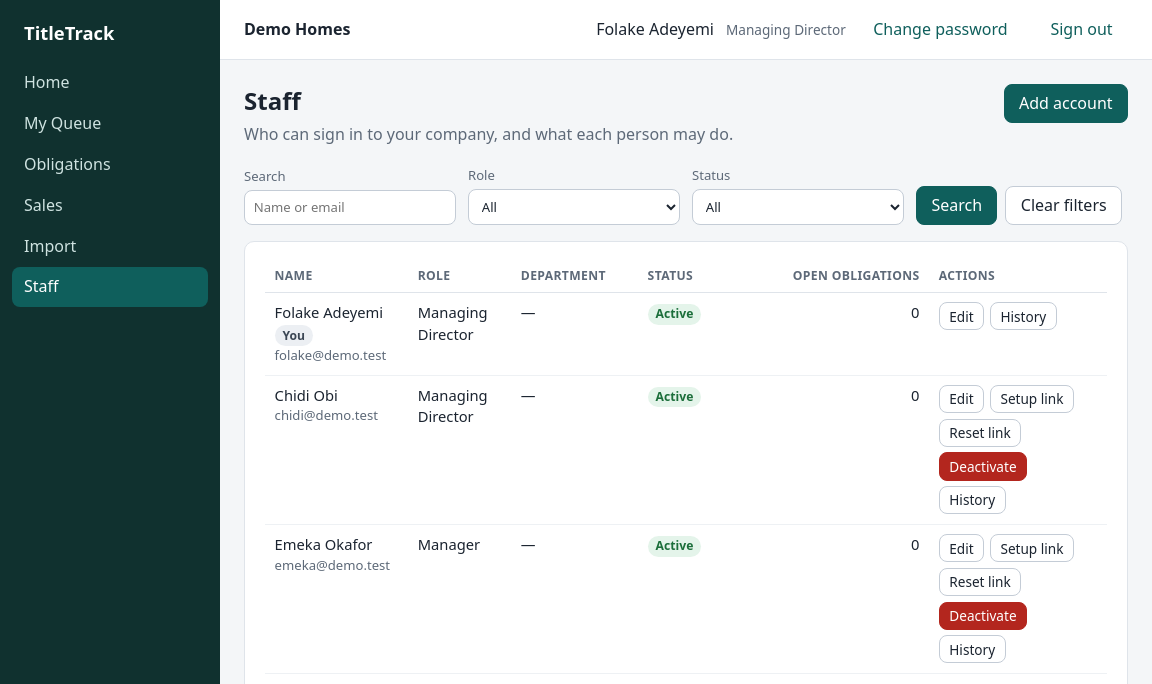
staff list › searches, filters and clears
This screenshot has width=1152, height=684.
Expected: the heading "Staff" is shown, [244,84,301,117]
Type "Bello" into the search field at (350, 208), box [244,190,456,225]
Then press Enter
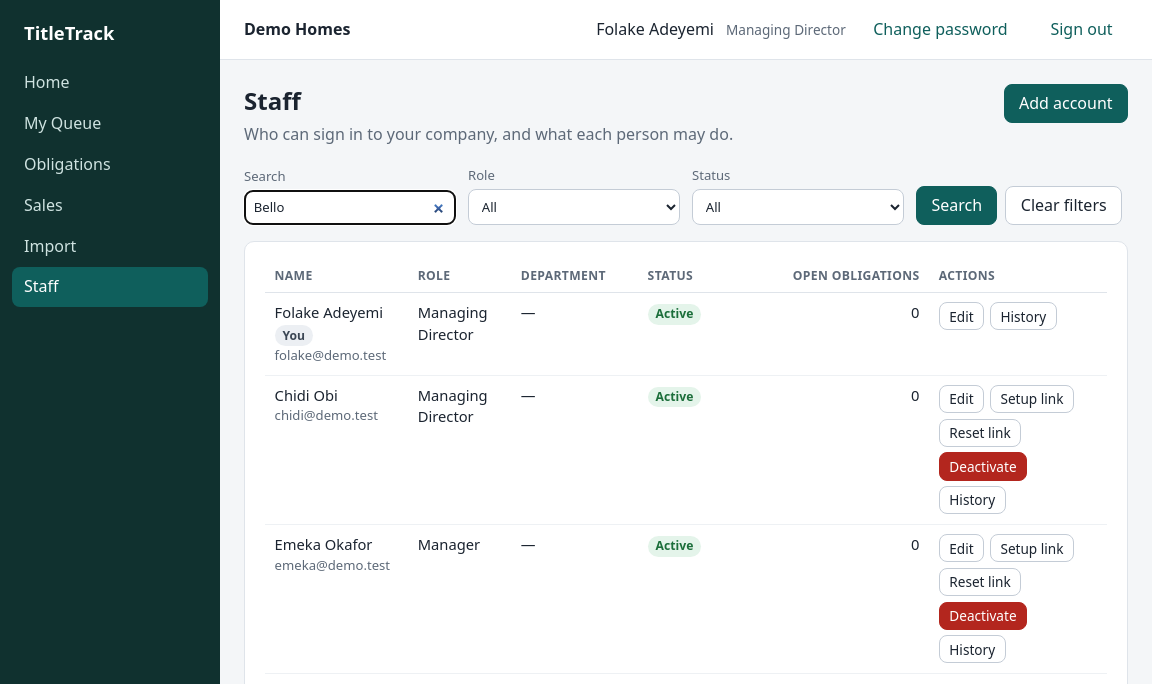
Select "Staff" in the dropdown labelled "Role" at (574, 207), box [468,189,680,225]
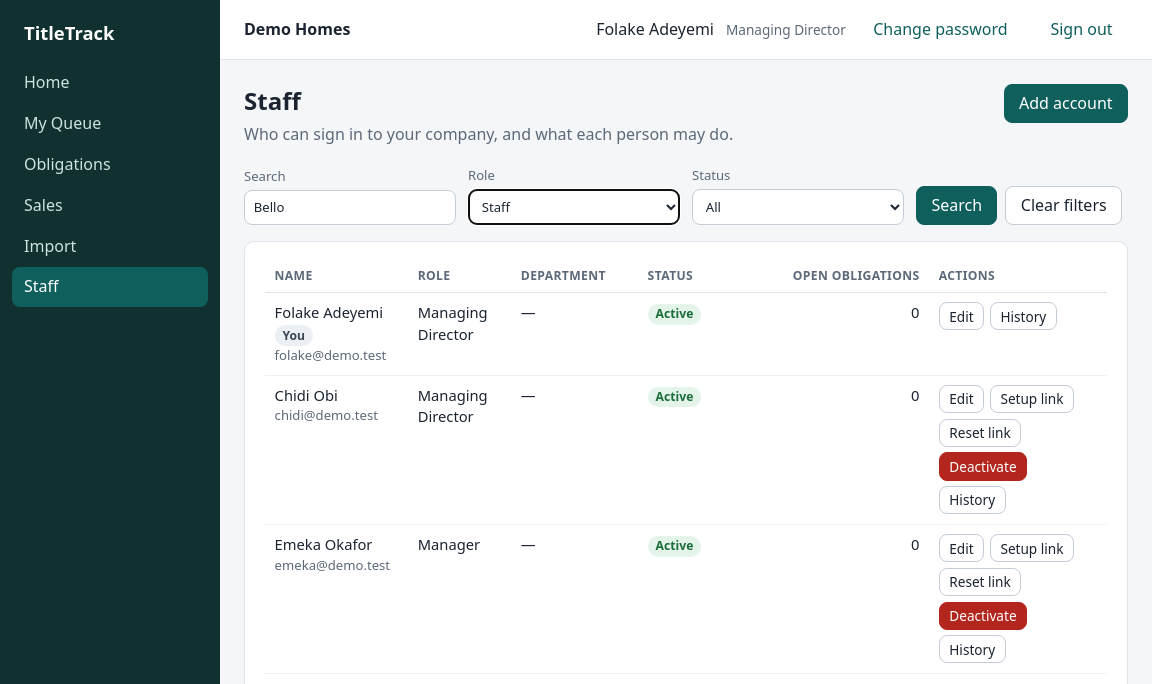
Select "Deactivated" in the dropdown labelled "Status" at (798, 207), box [692,189,904,225]
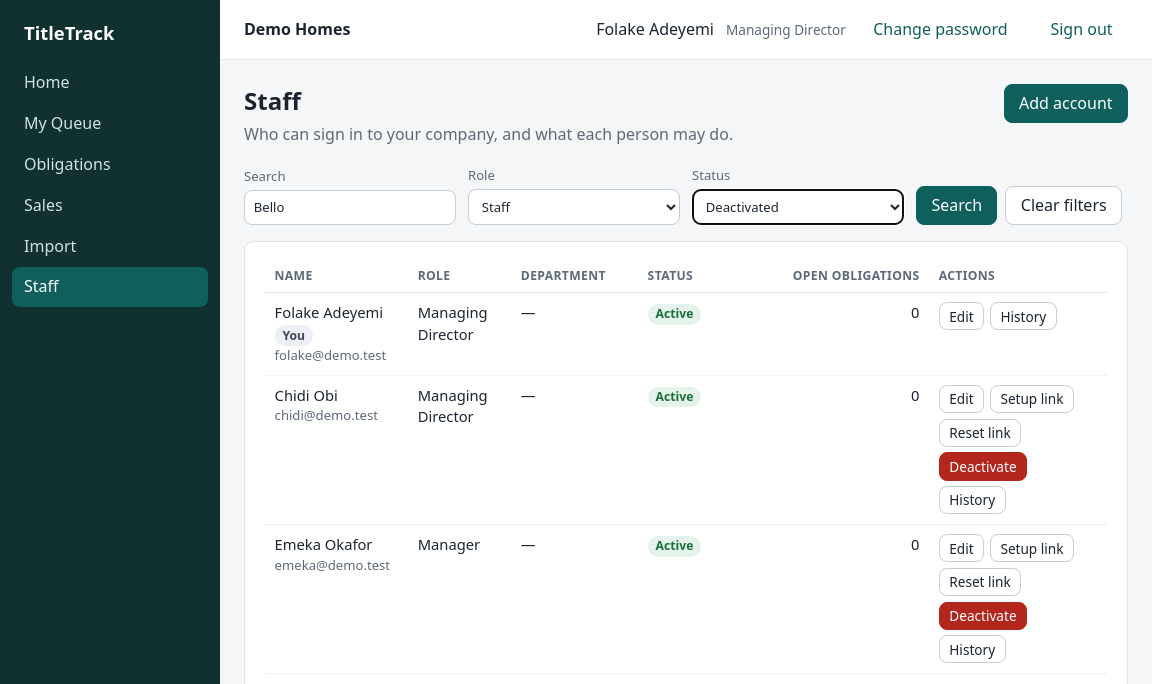
Click the button "Clear filters" at (1064, 205), box [1005,186,1122,225]
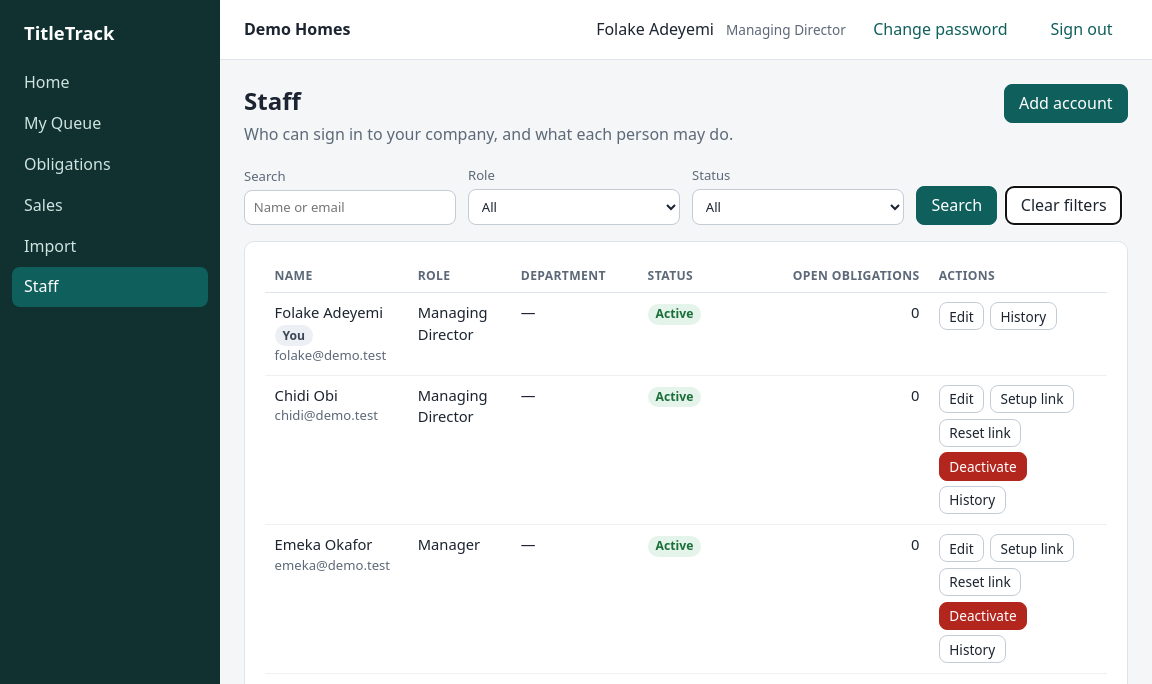
Result: the search field is empty at [244,190,456,225]
